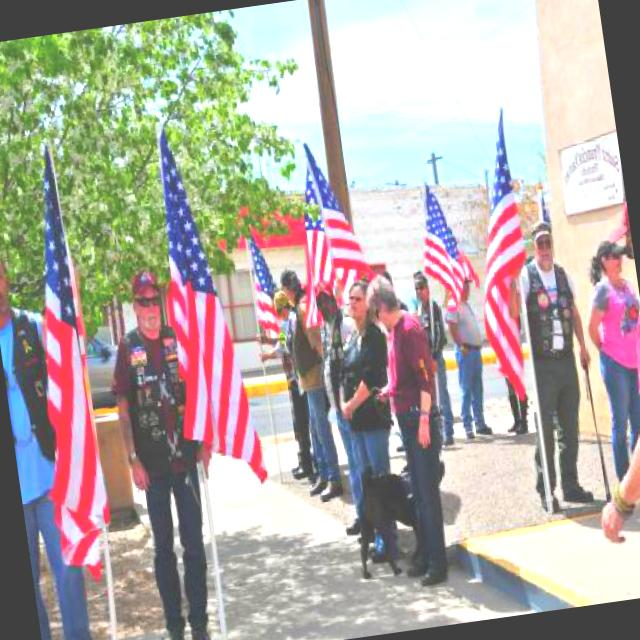Person: (249, 247, 482, 608), (96, 263, 241, 640), (0, 242, 100, 640), (496, 222, 614, 508), (579, 225, 640, 518)
